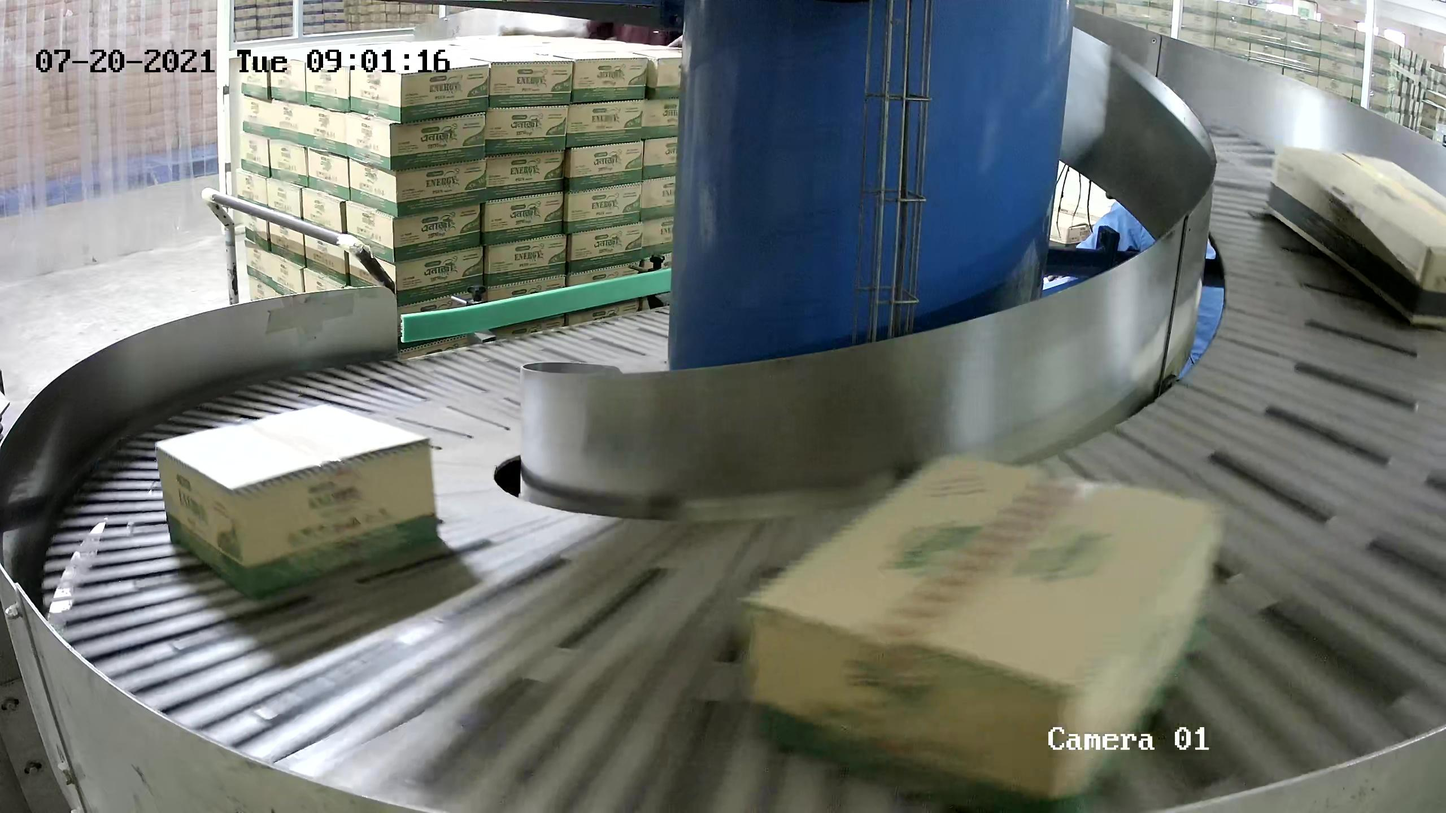Box: (740, 452, 1225, 813), (153, 403, 441, 601), (1265, 144, 1446, 327)
